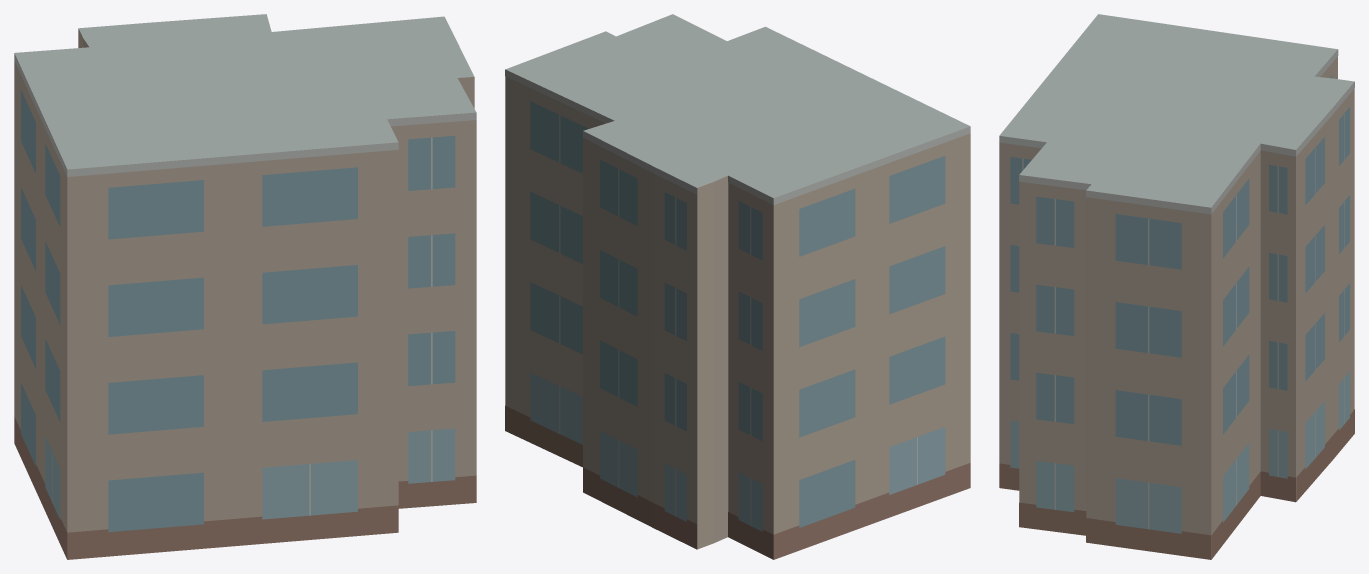
The model's file is survey-upis-32755468.glb.
3 renders of one model, left to right at view 1: azimuth 30°, elevation 25°; view 2: azimuth 150°, elevation 25°; view 3: azimuth 270°, elevation 25°, orthographic. The views are drawn at different scales.
Visible parts, largest first — view 1: survey-upis-32755468.tmp; view 2: survey-upis-32755468.tmp; view 3: survey-upis-32755468.tmp.
Part boxes in pixels (x1,y1,x2,y2): survey-upis-32755468.tmp: [14, 14, 476, 559]; survey-upis-32755468.tmp: [505, 14, 970, 559]; survey-upis-32755468.tmp: [999, 14, 1354, 559].
Size of the model in its own units: 15.11 by 12.8 by 11.72.
